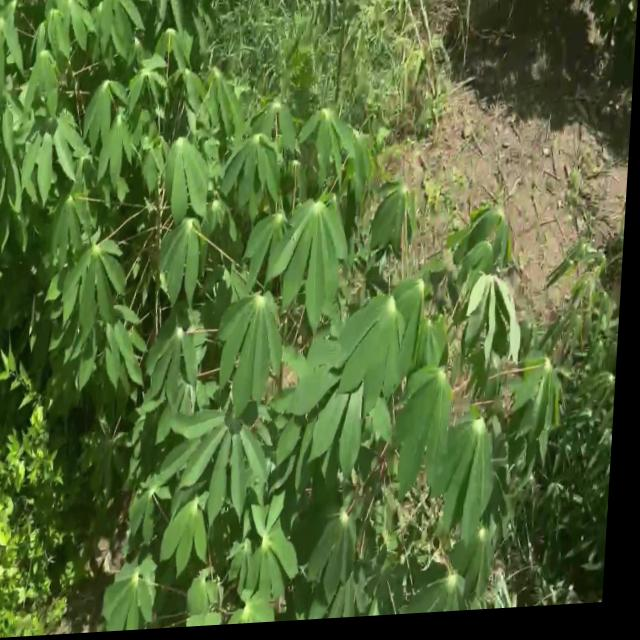Maleza: (0, 354, 73, 617)
Mosca: (416, 431, 440, 466), (259, 358, 277, 385), (247, 193, 269, 214), (325, 538, 343, 556)
